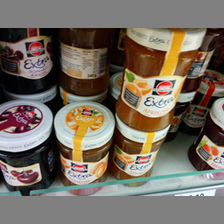jam: (116, 28, 207, 131), (54, 102, 115, 196), (1, 99, 54, 195), (110, 114, 171, 188), (1, 28, 56, 94), (59, 29, 111, 98), (188, 98, 224, 172)
